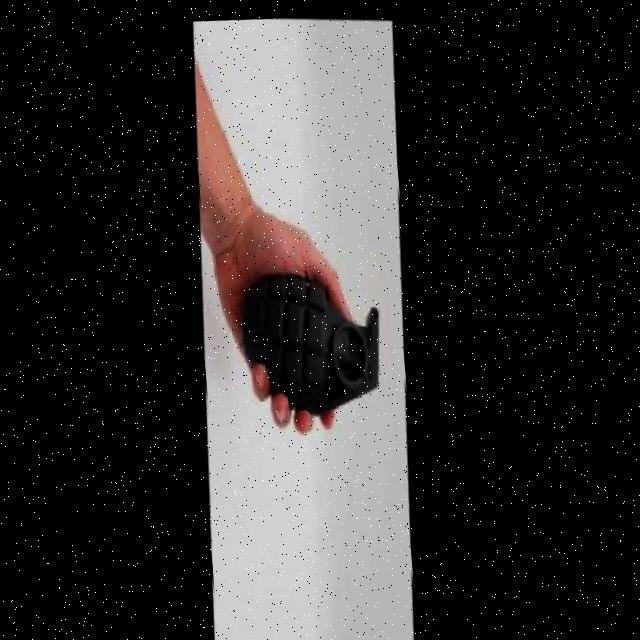grenade: (218, 250, 394, 437)
